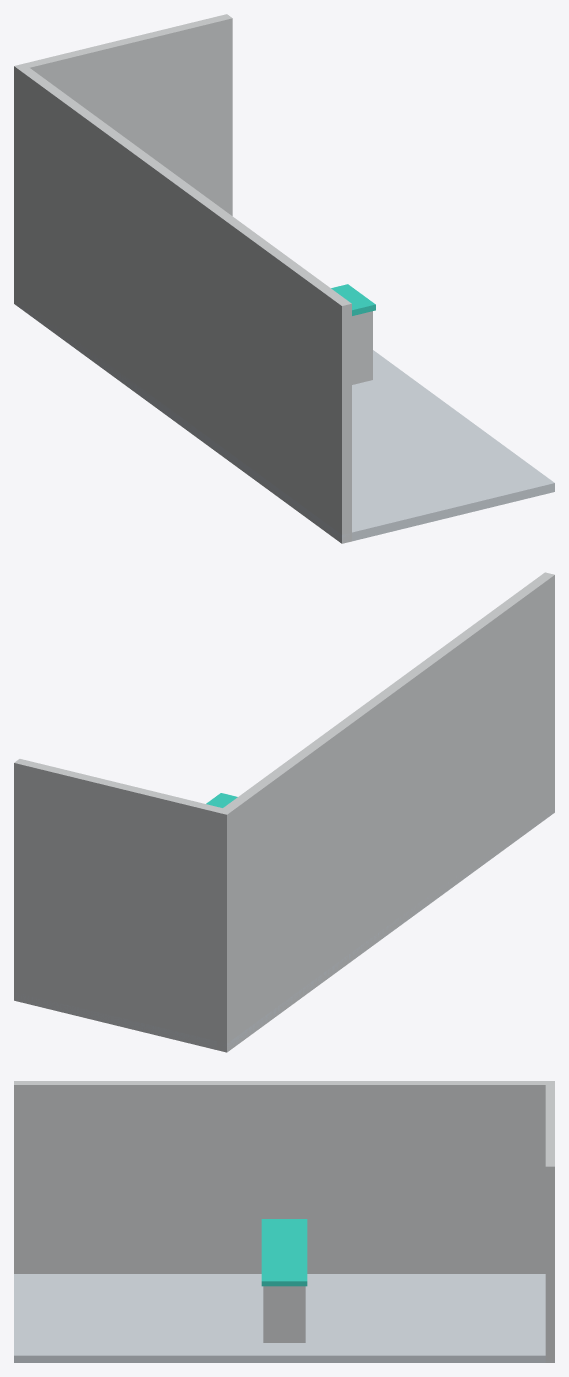
3 renders of one model, top to bottom at view 1: azimuth 30°, elevation 25°; view 2: azimuth 150°, elevation 25°; view 3: azimuth 270°, elevation 25°, orthographic. The views are drawn at different scales.
Parts seen in each view (by area): view 1: Exhibition Booth Concept; view 2: Exhibition Booth Concept; view 3: Exhibition Booth Concept.
Part boxes in pixels (x1,y1,x2,y2): Exhibition Booth Concept: (14,14,554,543); Exhibition Booth Concept: (14,572,554,1052); Exhibition Booth Concept: (14,1081,554,1362).
Size of the model in its own units: 3 by 3.2 by 8.
